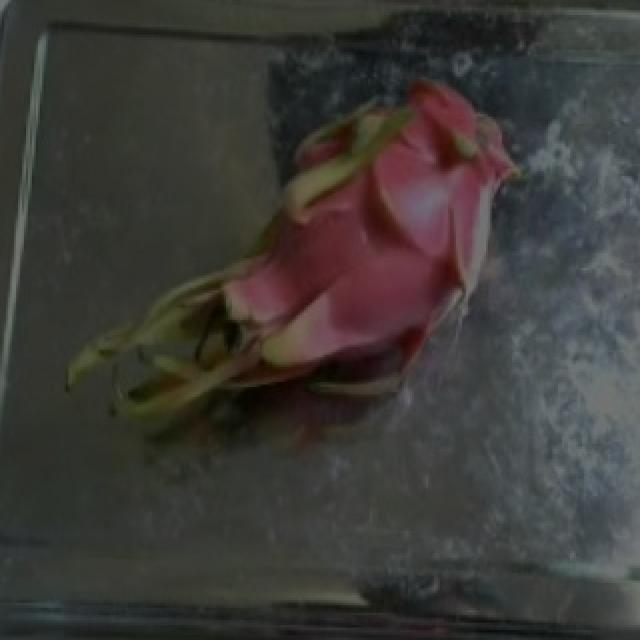fruit: (68, 40, 482, 434)
